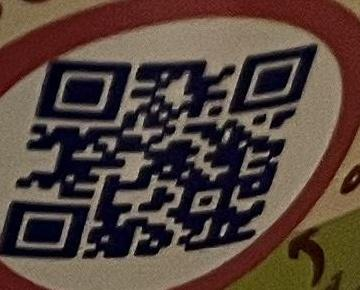qrcode: (2, 44, 320, 260)
